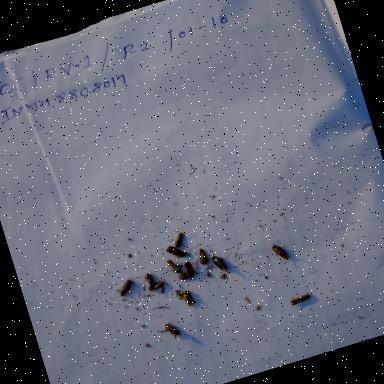pbw: (156, 314, 190, 344), (284, 284, 320, 312), (266, 234, 295, 265), (110, 274, 138, 302), (210, 250, 233, 278), (176, 285, 200, 311), (162, 240, 190, 262), (166, 226, 192, 249), (178, 256, 198, 281), (192, 243, 212, 267), (140, 276, 166, 294), (164, 256, 182, 276), (142, 270, 156, 288)
